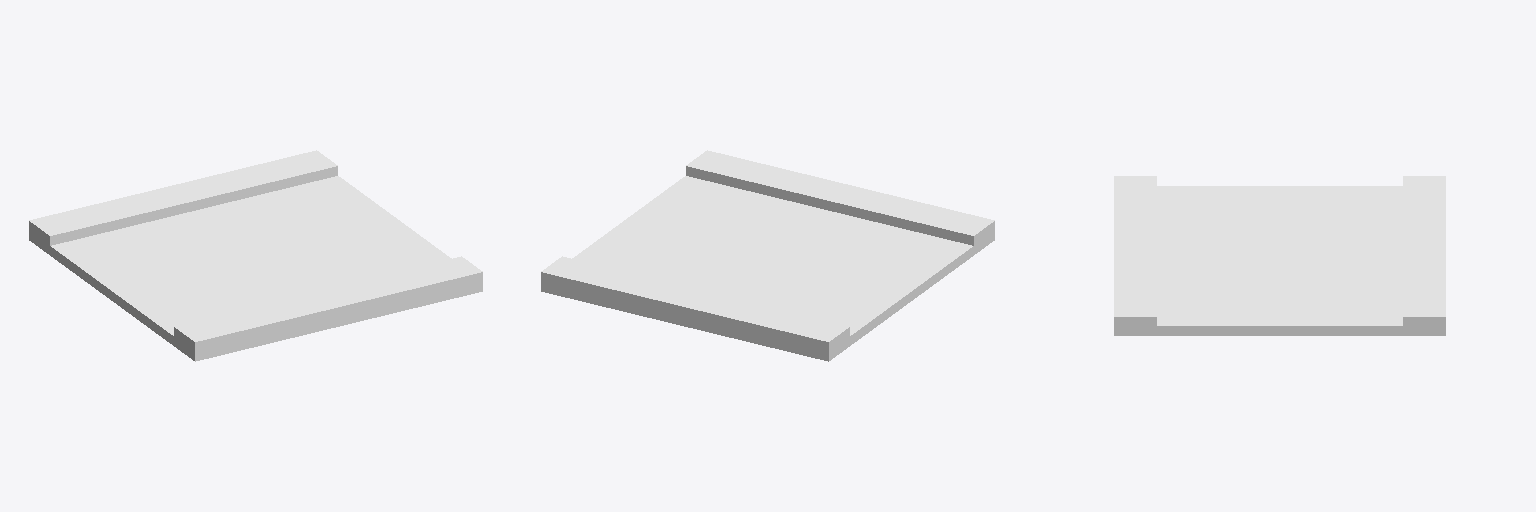
File: Road1.obj
3 views of the same model, side by side, from view 1: azimuth 30°, elevation 25°; view 2: azimuth 150°, elevation 25°; view 3: azimuth 270°, elevation 25° (orthographic).
Parts seen in each view (by area): view 1: Road1; view 2: Road1; view 3: Road1.
Part boxes in pixels (bbox=[...]): Road1: bbox=[29, 150, 482, 361]; Road1: bbox=[541, 150, 994, 361]; Road1: bbox=[1114, 176, 1445, 335].
Bounding box in the file's own units: 31 × 2 × 31.